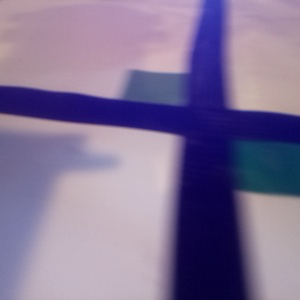bottom_right: (186, 115, 299, 197)
top_left: (122, 70, 223, 129)
